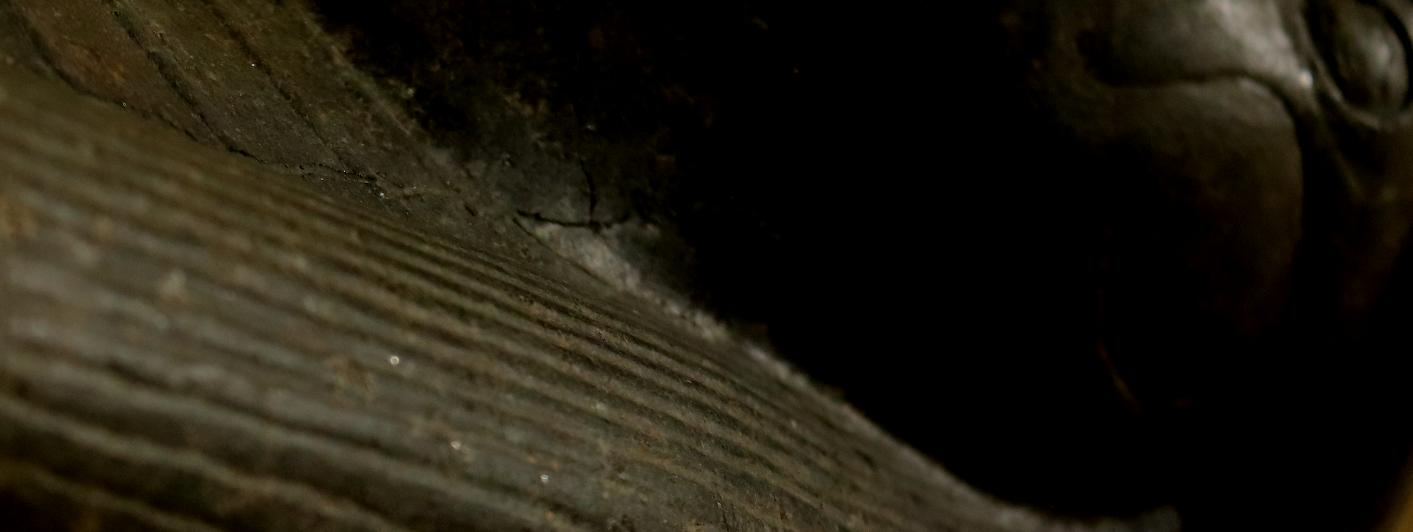Ra_Horakhty: (0, 0, 706, 532)
